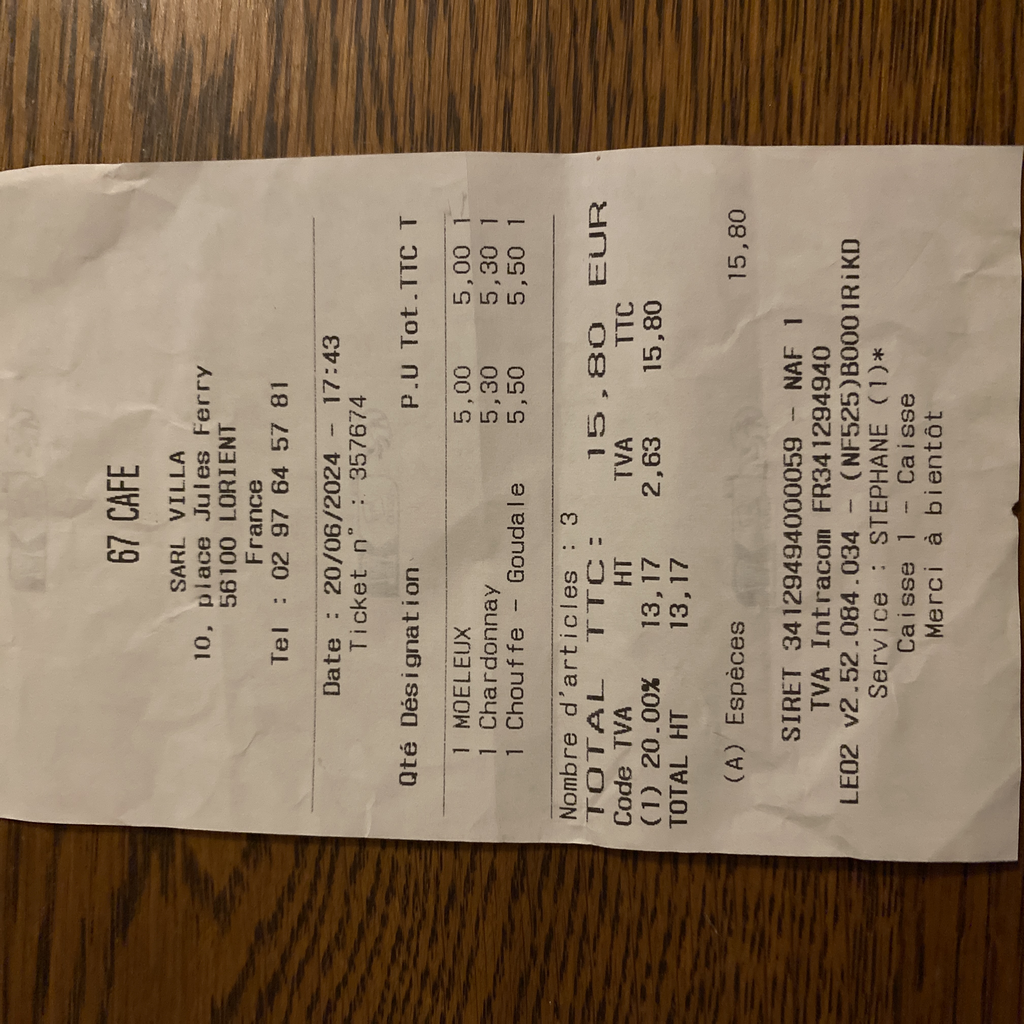recipt: (4, 145, 1022, 864)
